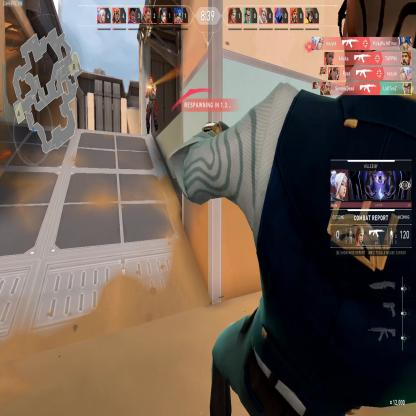enemy: (144, 75, 158, 136)
